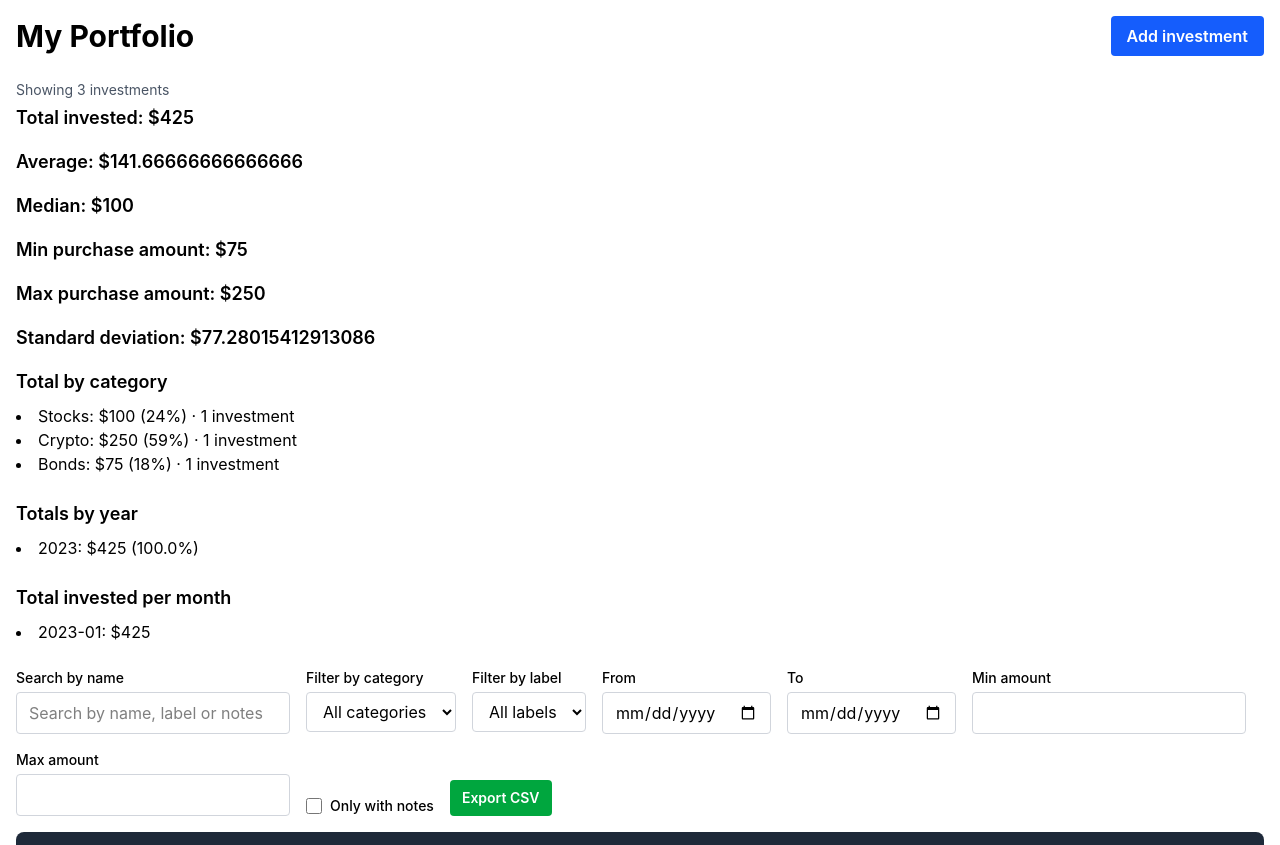
Scenario: HomePage › filtered investments count summary › AC-002: updates the count when a date range narrows the list
In the date field labelled "From": (686, 713) [602,692,771,734], type "2023-01-02"
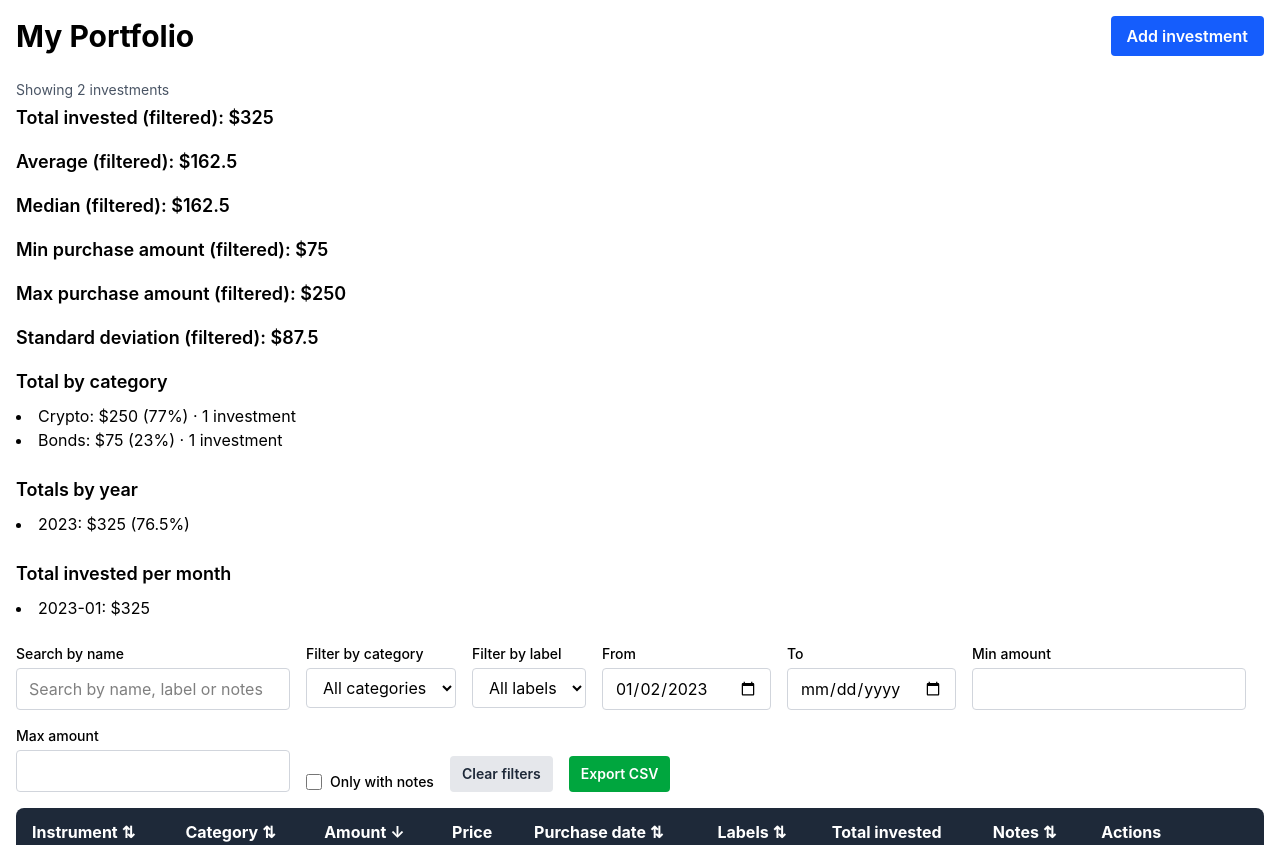
In the date field labelled "To": (872, 689) [787,668,956,710], type "2023-01-02"
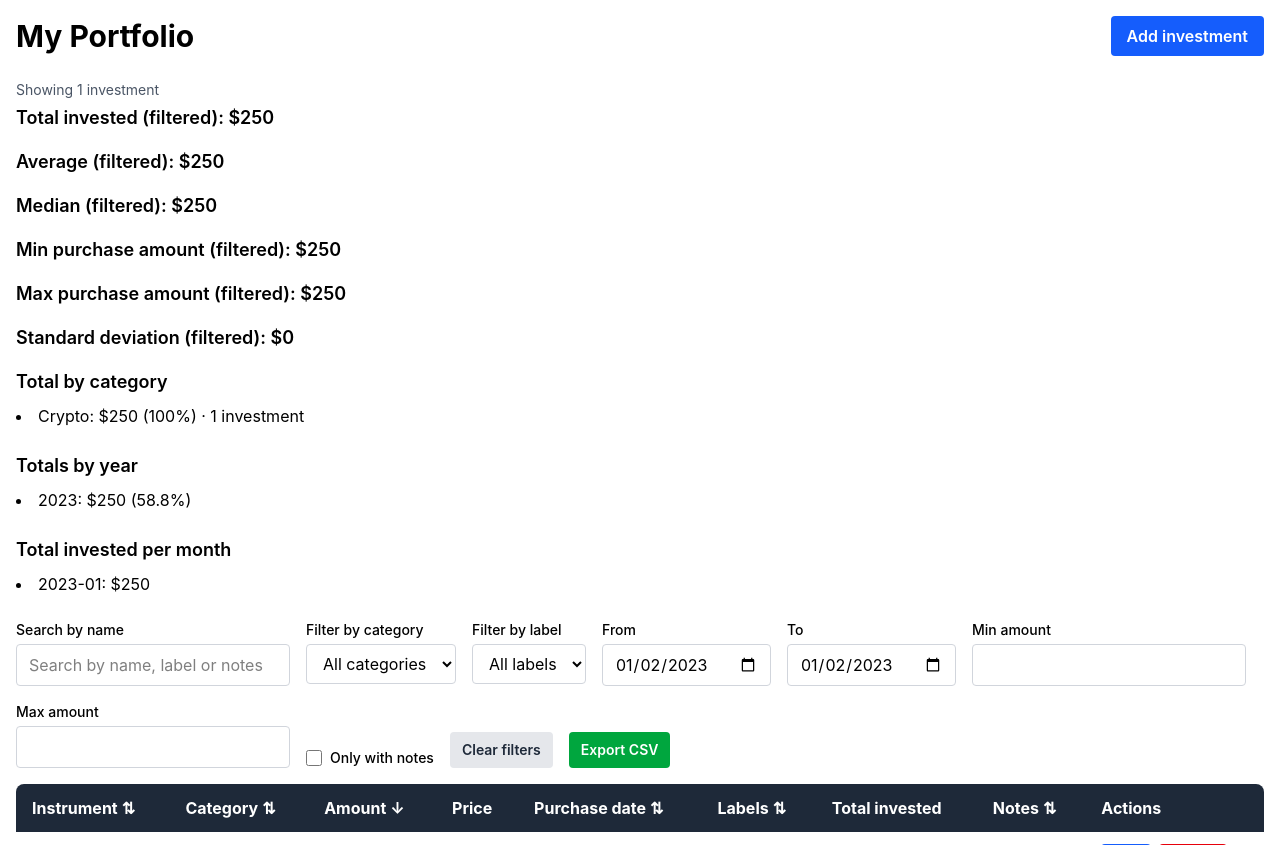
Result: the text "Showing 1 investment" is shown at [16,81,159,98]
